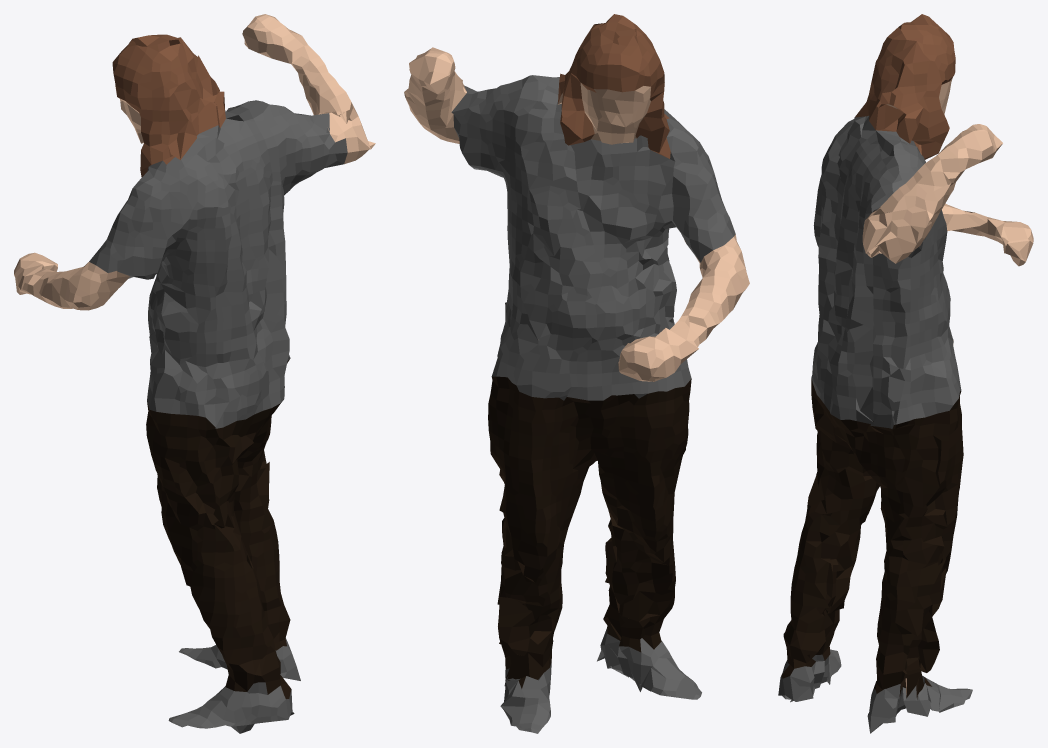
File: martinnrv.glb
3 renders of one model, left to right at view 1: azimuth 30°, elevation 25°; view 2: azimuth 150°, elevation 25°; view 3: azimuth 270°, elevation 25°, orthographic. The views are drawn at different scales.
Parts seen in each view (by area): view 1: martinnrv; view 2: martinnrv; view 3: martinnrv.
Part boxes in pixels (<box>): martinnrv: <box>14,14,375,733</box>; martinnrv: <box>404,14,749,733</box>; martinnrv: <box>778,14,1033,733</box>.
Size of the model in its own units: 0.9318 by 1.97 by 0.6909.
